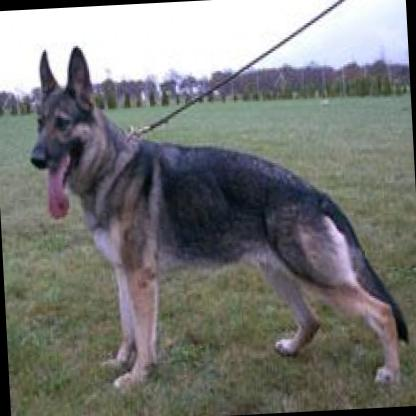German_shepherd: (20, 26, 414, 410)
